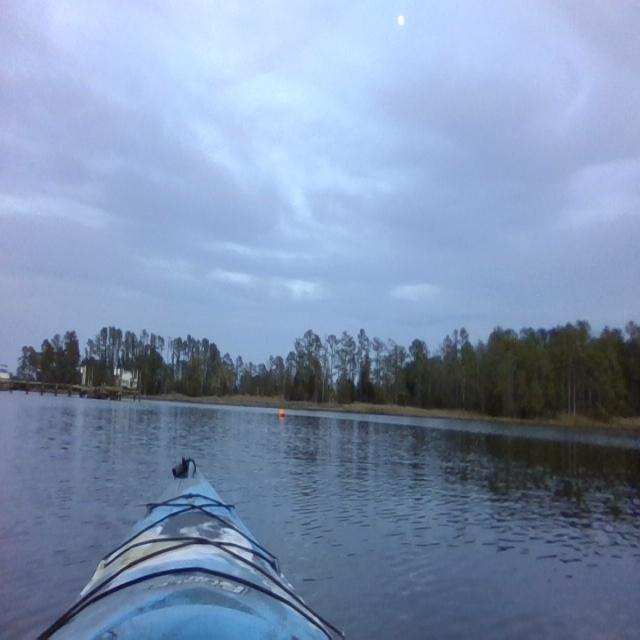Buoy: (279, 407, 285, 417)
